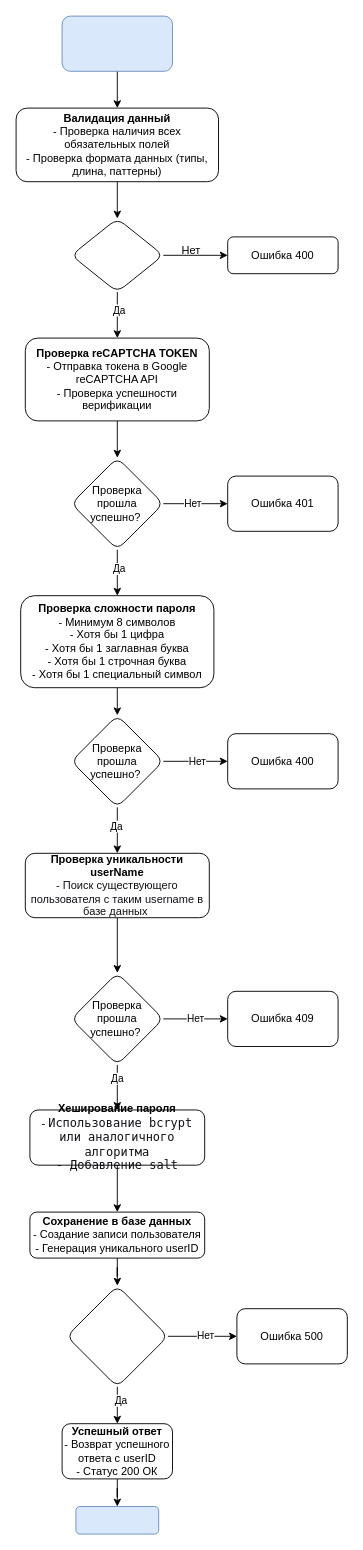
Some shapes in this 363 by 1550 pixel diagram are drawn without their labels. The box of each missing label's shape, as (x1, y1, x2, y2) in pixels:
Finish: (75, 1506, 159, 1534)
Start POST /api/register: (61, 15, 172, 71)
Данные валидны?: (70, 218, 163, 292)
Сохранение прошло успешно ?: (66, 1285, 168, 1387)
